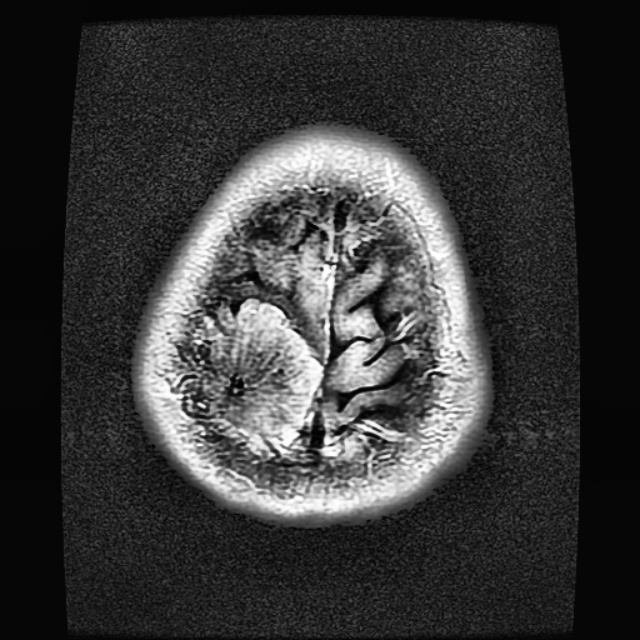Glioma: (188, 298, 320, 458)
